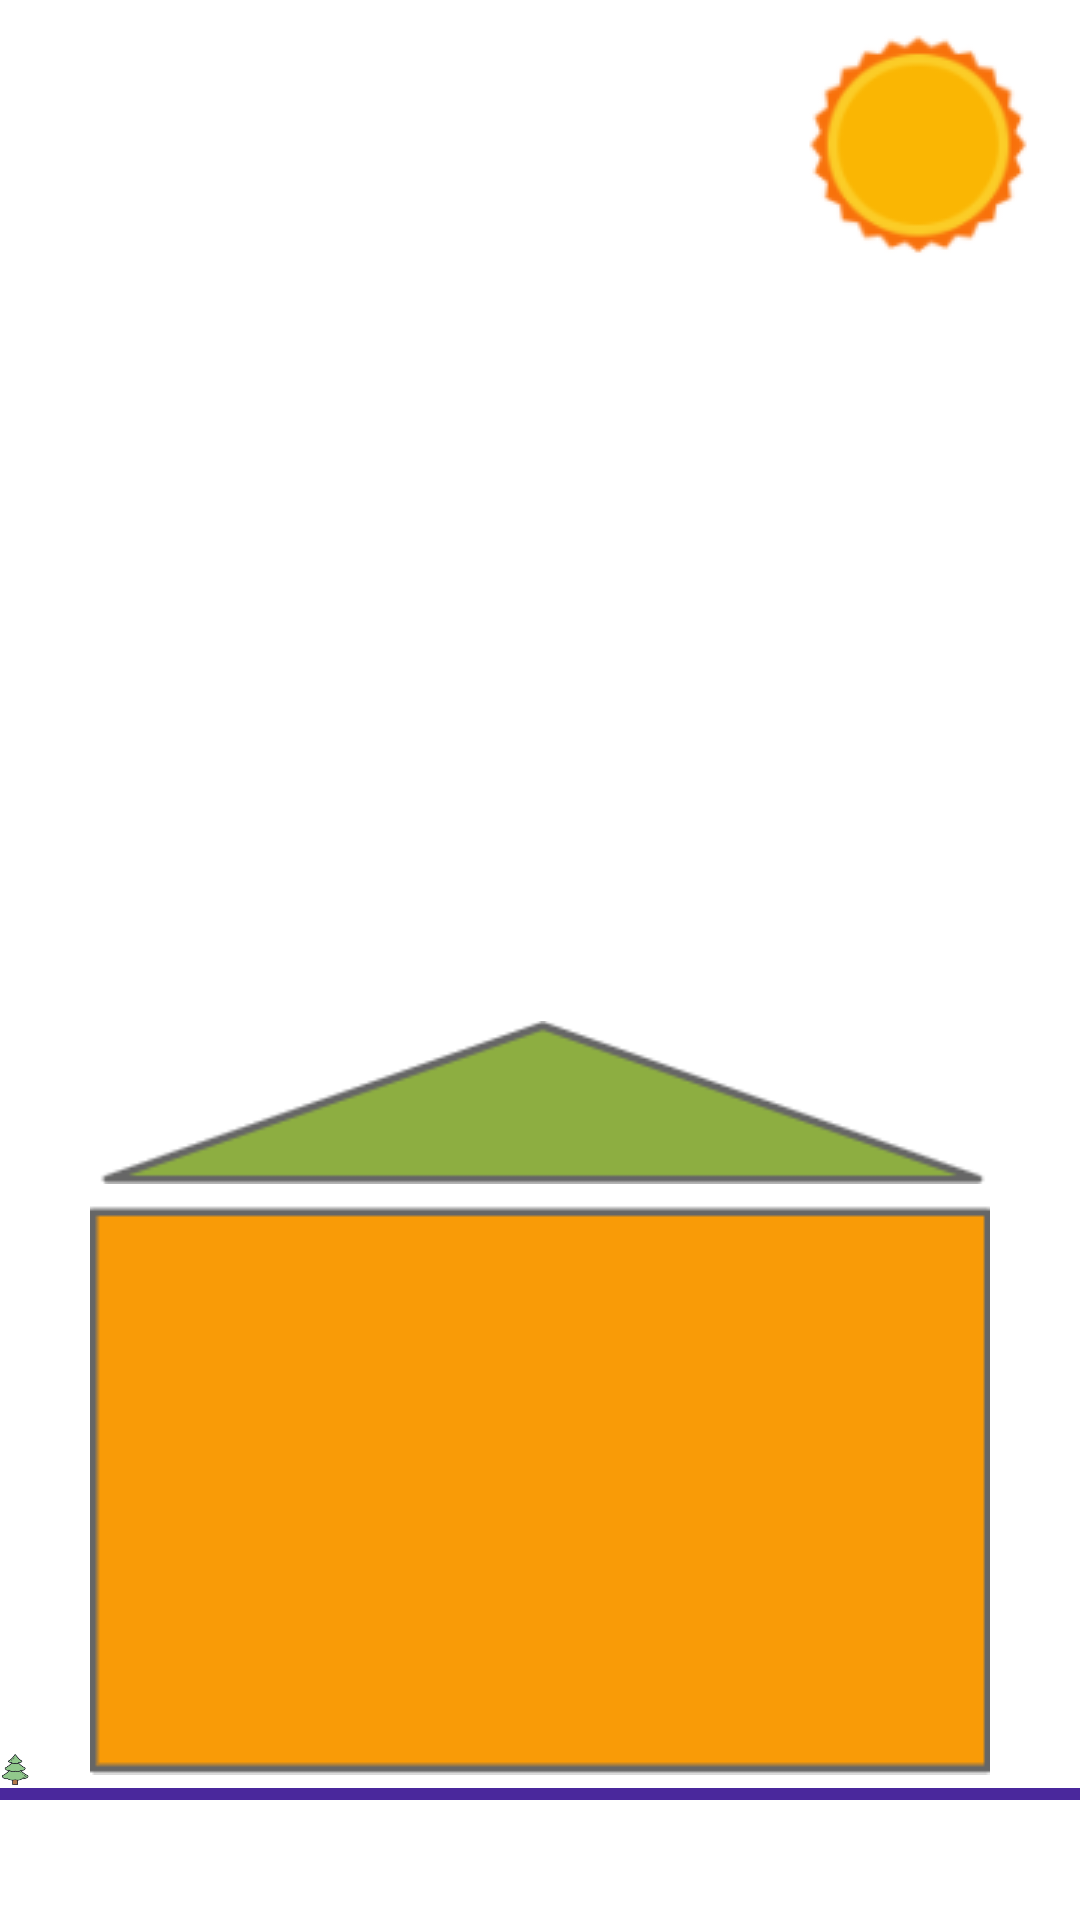

Icon click points for this 1080 x 1920 phone screenshot, format [x,y]:
arbol: [15,1769]
sol: [918,144]
